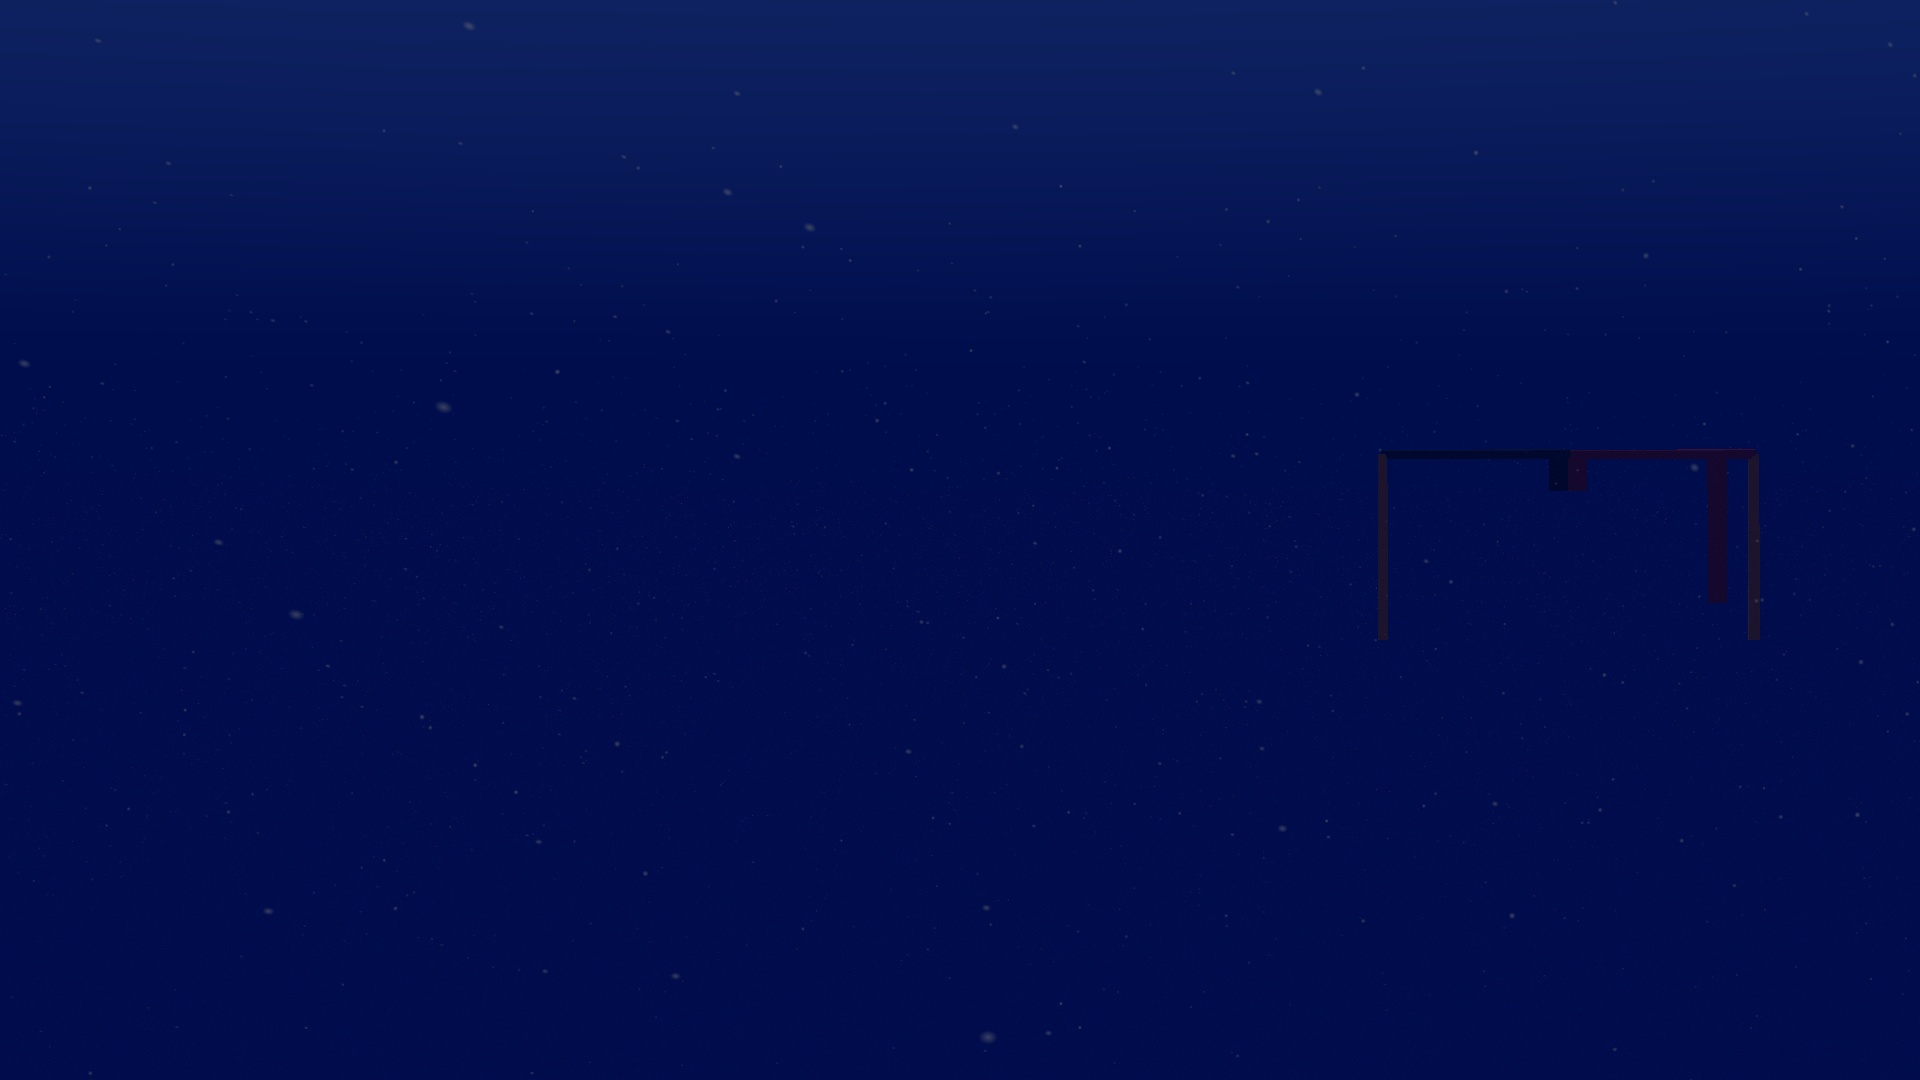Gate: (1367, 442, 1774, 650)
